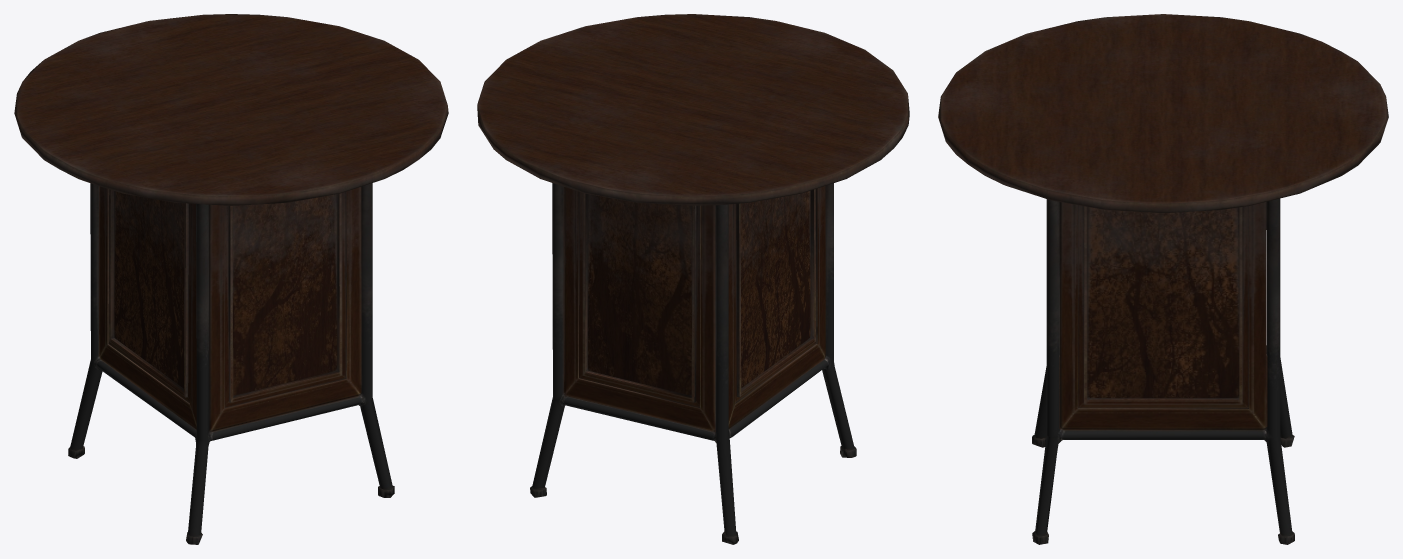
Rendered from round_wooden_table_02_lod2.glb.
The picture shows the model from 3 angles, left to right: view 1: azimuth 30°, elevation 25°; view 2: azimuth 150°, elevation 25°; view 3: azimuth 270°, elevation 25°; orthographic projection. The views are drawn at different scales.
Visible parts, largest first — view 1: round_wooden_table_02; view 2: round_wooden_table_02; view 3: round_wooden_table_02.
Boxes of the visible parts, left/top/right/bottom form: round_wooden_table_02: left=14, top=14, right=448, bottom=544; round_wooden_table_02: left=477, top=14, right=909, bottom=544; round_wooden_table_02: left=938, top=14, right=1388, bottom=544.
Bounding box in the file's own units: 0.7923 × 0.746 × 0.7923.
1 material, 1 textured.
